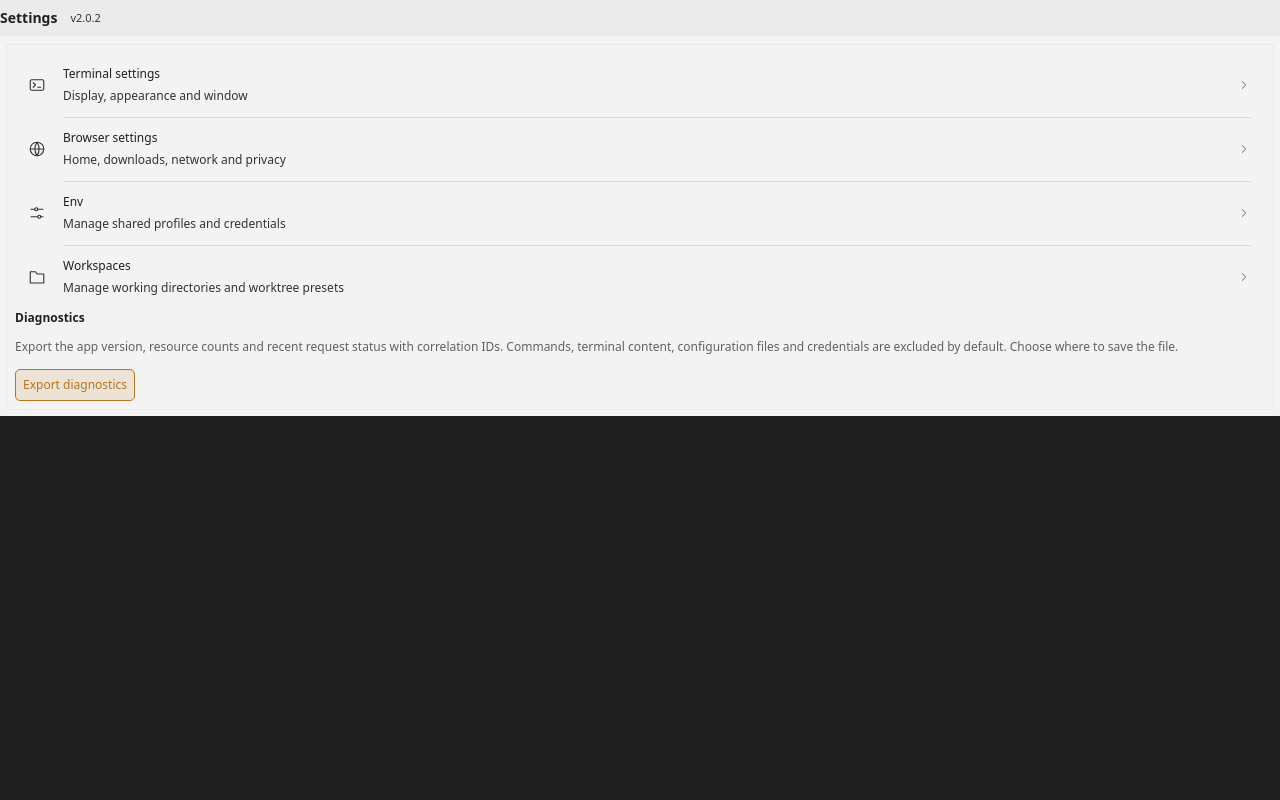
Scenario: 终端设置里的任务保存区快捷键 › 回显已保存的绑定，保存成功后采用后端回执并提示已保存
The image size is (1280, 800).
Click the button "Terminal settings": click(112, 74) [15, 53, 1259, 117]
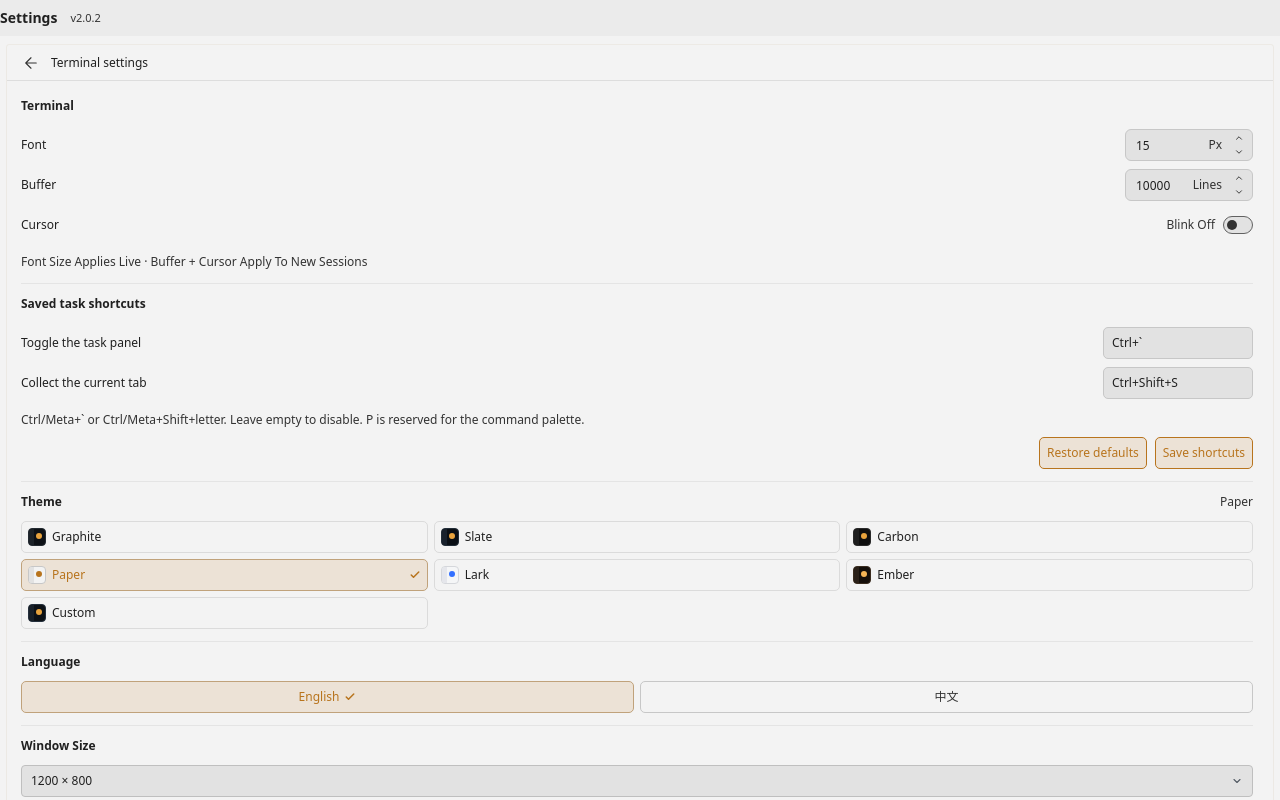
Expected: the field labelled "Toggle the task panel" holds "Ctrl+`"
Expected: the field labelled "Collect the current tab" holds "Ctrl+Shift+S", [1103, 367, 1253, 399]
In the field labelled "Toggle the task panel": (1178, 343) [1103, 327, 1253, 359], type "Ctrl+Shift+K"
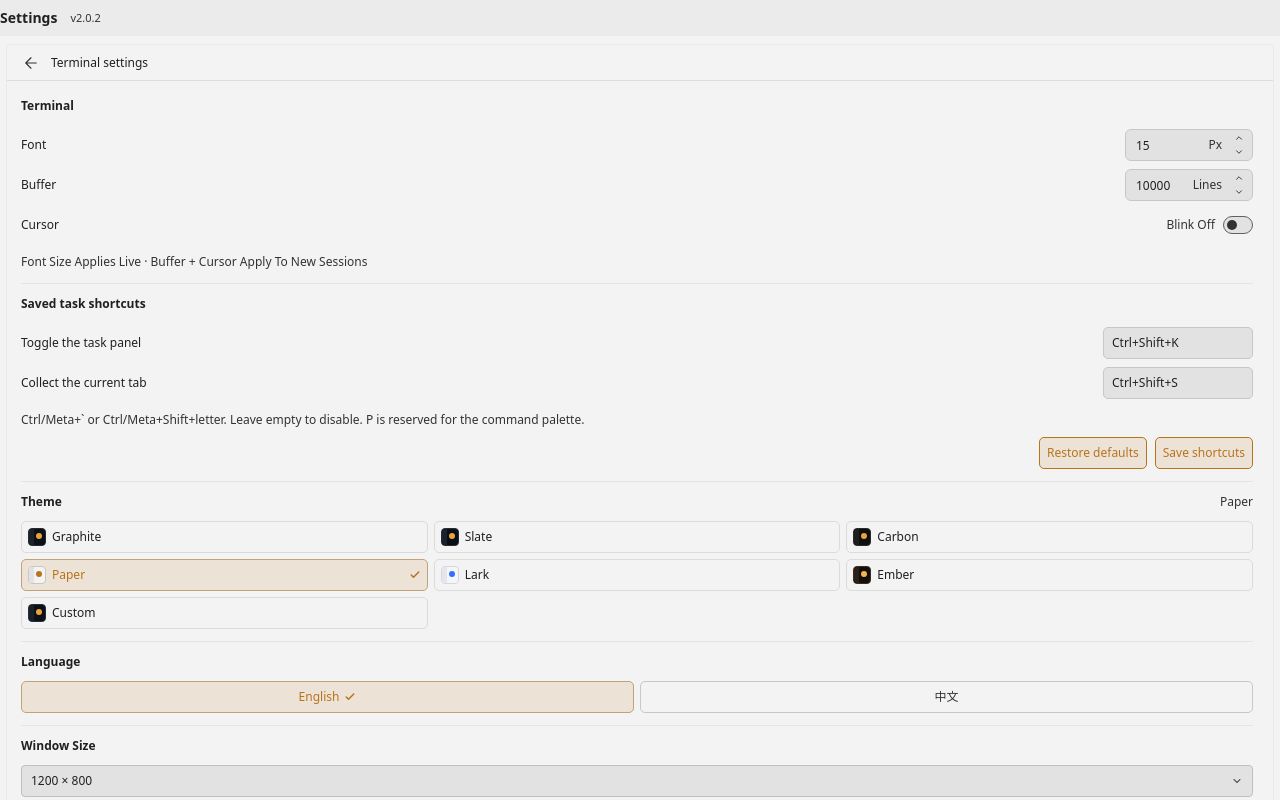
Click the button "Save shortcuts": click(1204, 453) [1155, 437, 1253, 469]
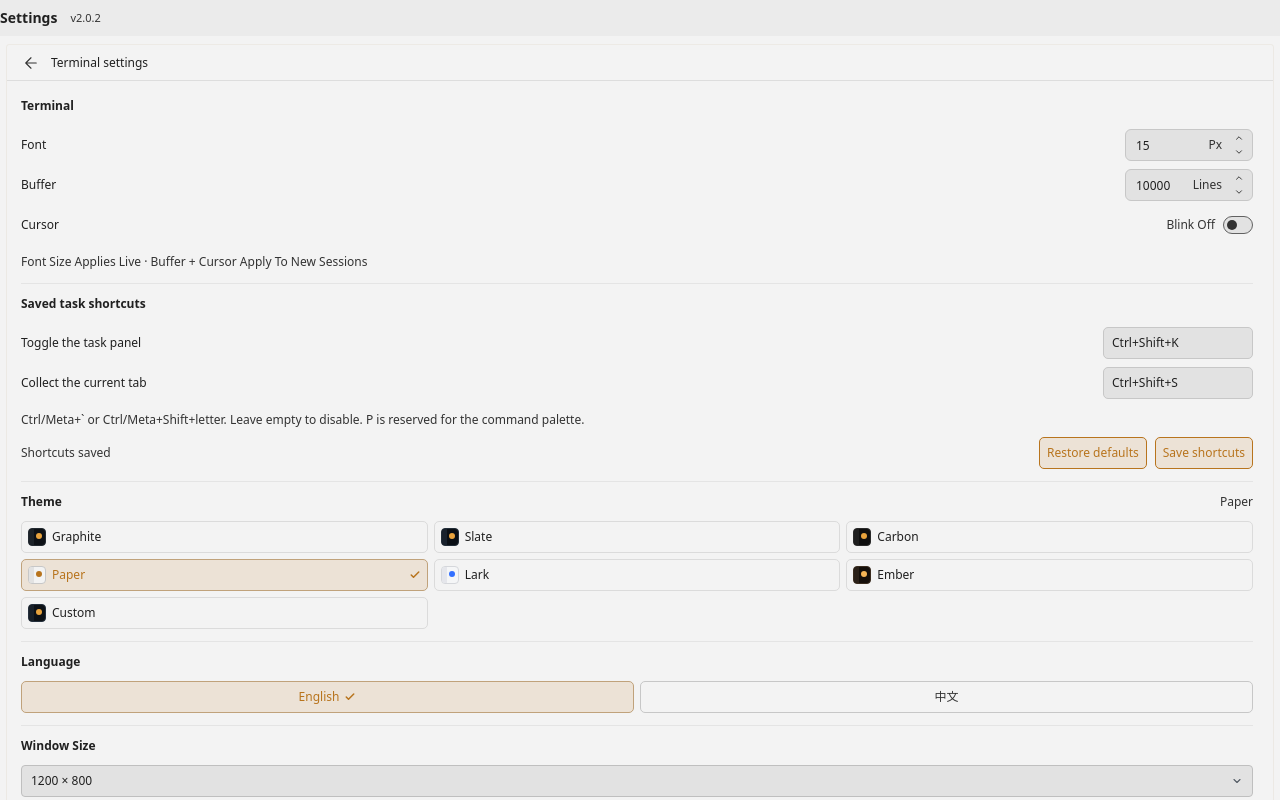
Expected: the message reads "Shortcuts saved", [21, 444, 111, 461]
